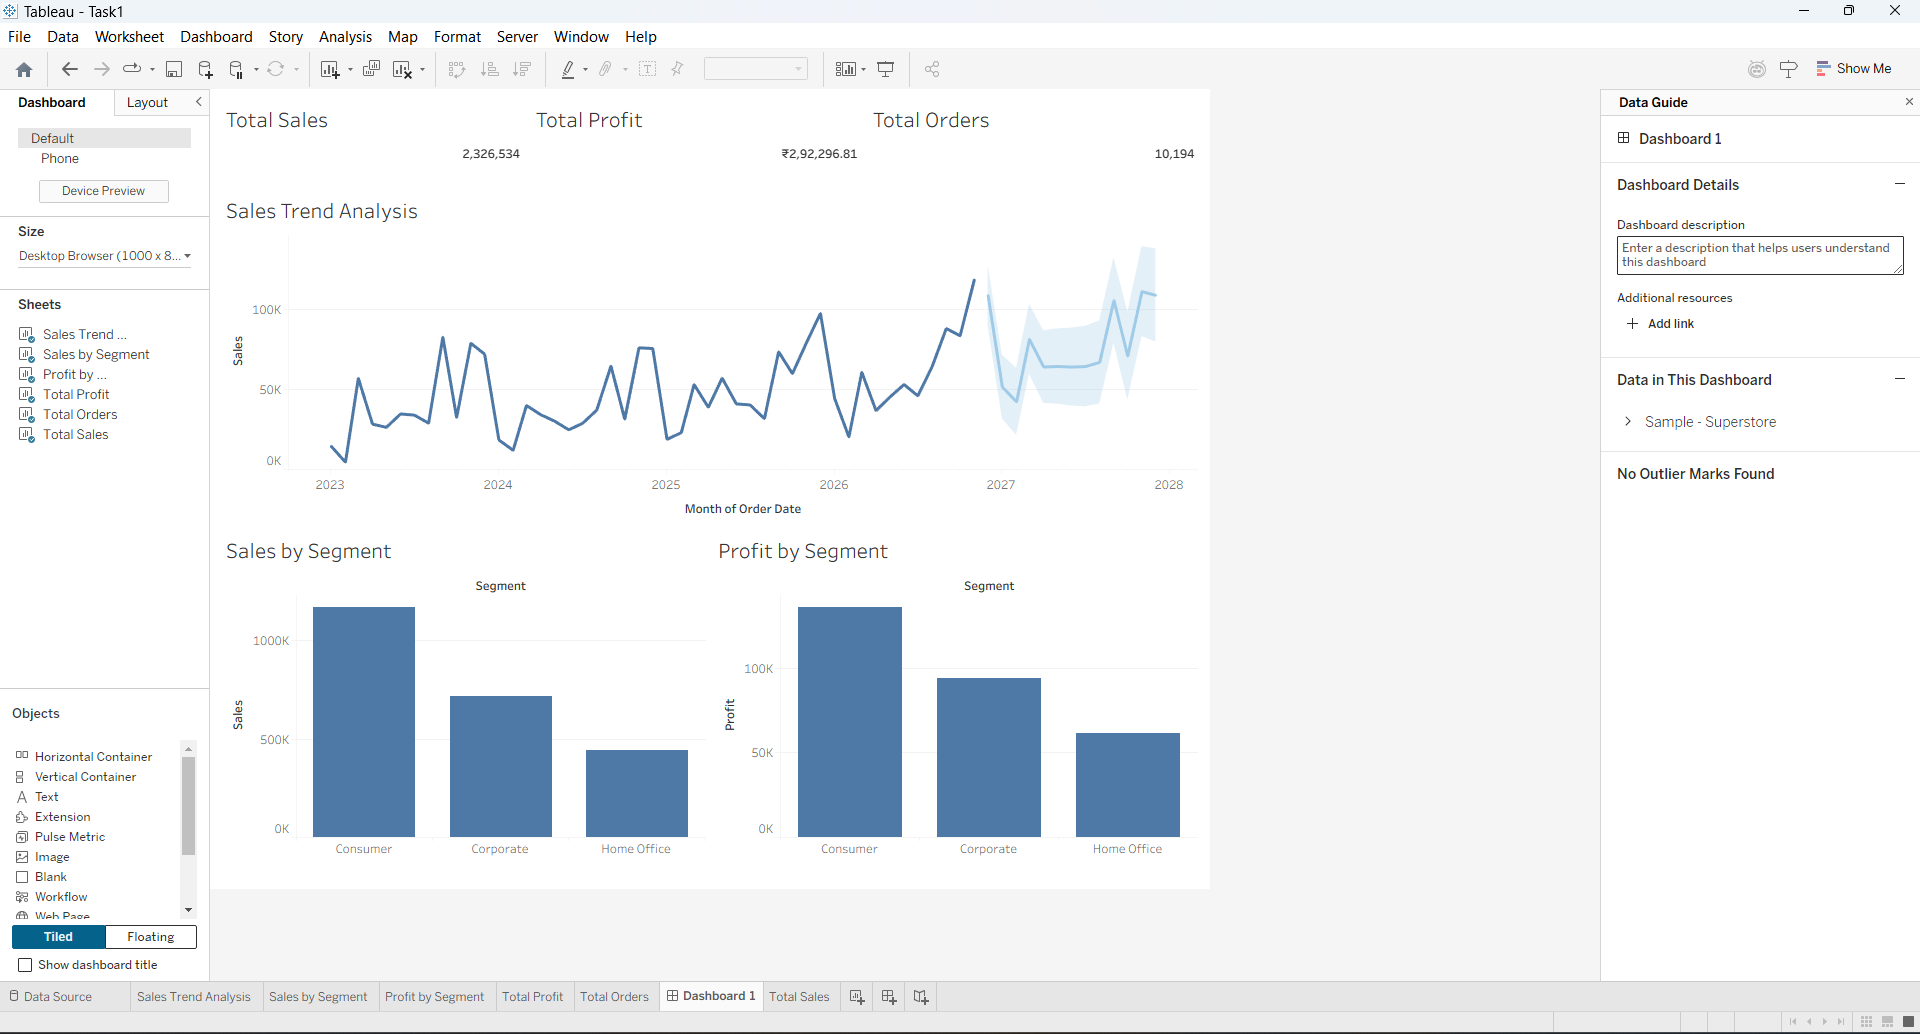

Layout of this report page (visuals, bound fields, positions):
{"tool":"tableau","page":{"name":"Dashboard 1","canvas":[1000,800],"ordinal":0},"visuals":[{"type":"worksheet","title":"Total Sales","mark":"Automatic","box":[8,8,310,91]},{"type":"worksheet","title":"Total Profit","mark":"Automatic","box":[318,8,337,91]},{"type":"worksheet","title":"Total Orders","mark":"Automatic","box":[655,8,337,91]},{"type":"worksheet","title":"Sales Trend Analysis","mark":"Automatic","rows":["Sales"],"cols":["Order Date"],"box":[8,99,984,340]},{"type":"worksheet","title":"Sales by Segment","mark":"Automatic","rows":["Sales"],"cols":["Segment"],"box":[8,439,492,353]},{"type":"worksheet","title":"Profit by Segment","mark":"Automatic","rows":["Profit"],"cols":["Segment"],"box":[500,439,492,353]}]}

Visuals, with their boxes on the page's 1000x800 design canvas (x1, y1, x2, y2). These are canvas units, not pixel positions in the 1920x1034 screenshot, which may show the page scaled, cropped or inside an application window:
"Total Sales" worksheet: x1=8 y1=8 x2=318 y2=99
"Total Profit" worksheet: x1=318 y1=8 x2=655 y2=99
"Total Orders" worksheet: x1=655 y1=8 x2=992 y2=99
"Sales Trend Analysis" worksheet: x1=8 y1=99 x2=992 y2=439
"Sales by Segment" worksheet: x1=8 y1=439 x2=500 y2=792
"Profit by Segment" worksheet: x1=500 y1=439 x2=992 y2=792
